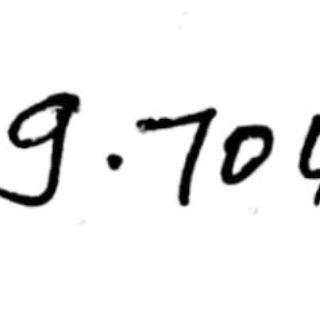.: (103, 150, 125, 173)
0: (219, 120, 275, 187)
7: (132, 105, 218, 209)
9: (1, 89, 82, 211)
